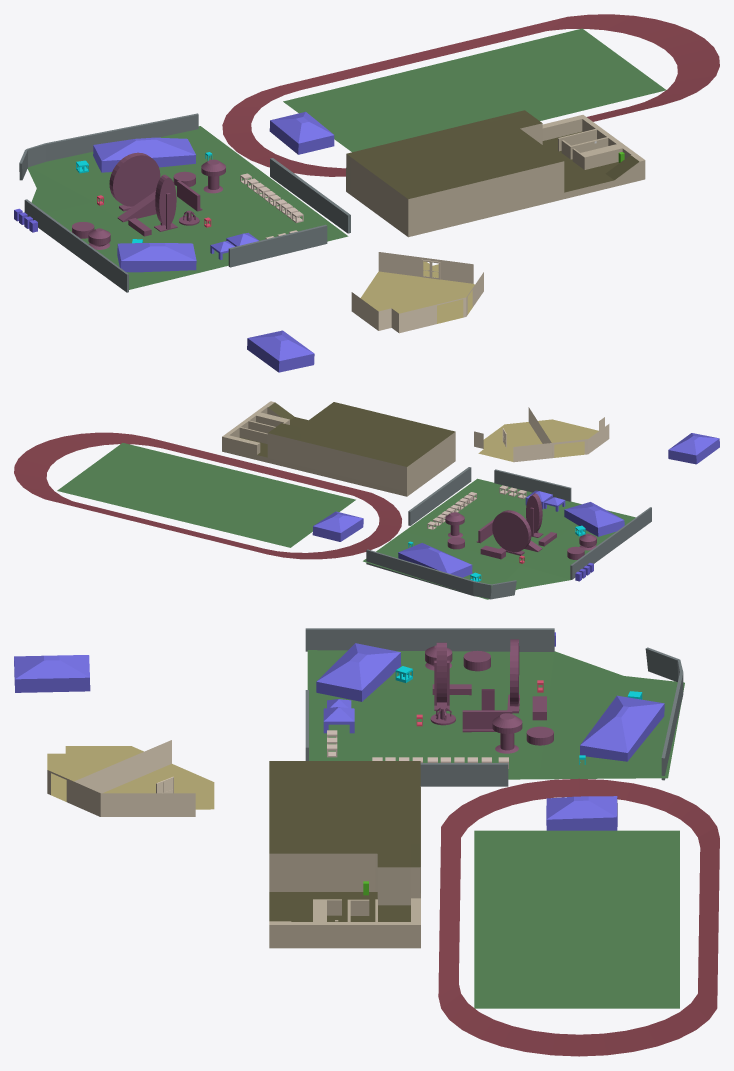
File: FairMap.gltf
3 views of the same model, one above another, from view 1: azimuth 30°, elevation 25°; view 2: azimuth 150°, elevation 25°; view 3: azimuth 270°, elevation 25° (orthographic). The views are drawn at different scales.
Visible parts, largest first — view 1: F1Part000, F1You000, Plane.000, Plane.001, Cylinder.003, Plane.004, Plane.003, Cube.010, Plane.002, Plane; view 2: F1Part000, F1You000, Plane.000, Cylinder.003, Plane.001, Plane.004, Plane.003, Cube.010, Plane.002; view 3: F1Part000, F1You000, Plane.000, Plane.001, Plane.004, Plane.003, Cube.010, Plane.002, Cube.009.
Boxes of the visible parts, bbox=[...] form: F1Part000: bbox=[19, 14, 719, 292]; F1You000: bbox=[351, 252, 483, 333]; Plane.000: bbox=[93, 137, 196, 172]; Plane.001: bbox=[117, 243, 196, 272]; Cylinder.003: bbox=[109, 152, 160, 206]; Plane.004: bbox=[247, 330, 314, 372]; Plane.003: bbox=[269, 111, 334, 154]; Cube.010: bbox=[154, 174, 177, 231]; Plane.002: bbox=[201, 159, 225, 193]; Plane: bbox=[117, 191, 156, 222]; F1Part000: bbox=[14, 401, 651, 599]; F1You000: bbox=[474, 407, 609, 462]; Plane.000: bbox=[398, 543, 472, 577]; Cylinder.003: bbox=[492, 510, 531, 552]; Plane.001: bbox=[564, 502, 624, 536]; Plane.004: bbox=[668, 433, 719, 464]; Plane.003: bbox=[312, 511, 363, 541]; Cube.010: bbox=[526, 493, 543, 537]; Plane.002: bbox=[445, 512, 464, 537]; F1Part000: bbox=[269, 628, 719, 1056]; F1You000: bbox=[47, 740, 214, 816]; Plane.000: bbox=[580, 695, 664, 761]; Plane.001: bbox=[316, 643, 401, 701]; Plane.004: bbox=[14, 655, 90, 692]; Plane.003: bbox=[546, 796, 617, 830]; Cube.010: bbox=[434, 642, 449, 710]; Plane.002: bbox=[492, 713, 522, 753]; Cube.009: bbox=[462, 710, 512, 732].
Size of the model in its own units: 81.03 by 6.21 by 58.07.
